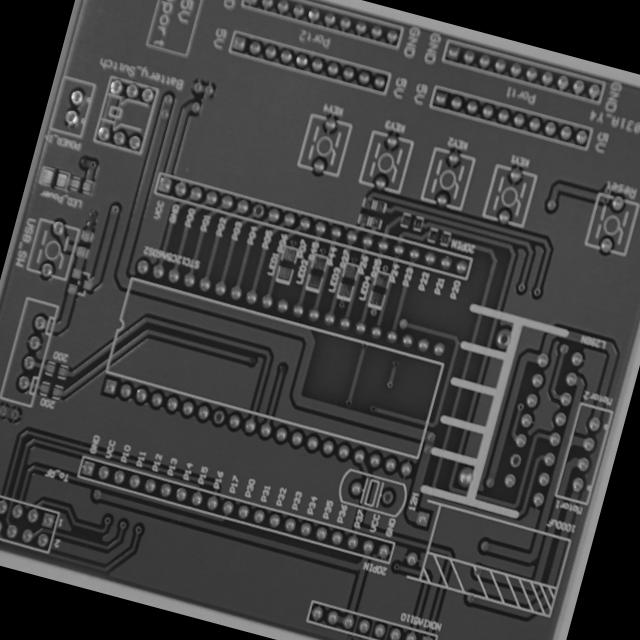missing_hole: (377, 486, 398, 510), (209, 404, 229, 428), (494, 326, 513, 348), (506, 448, 524, 470), (248, 200, 266, 220)
